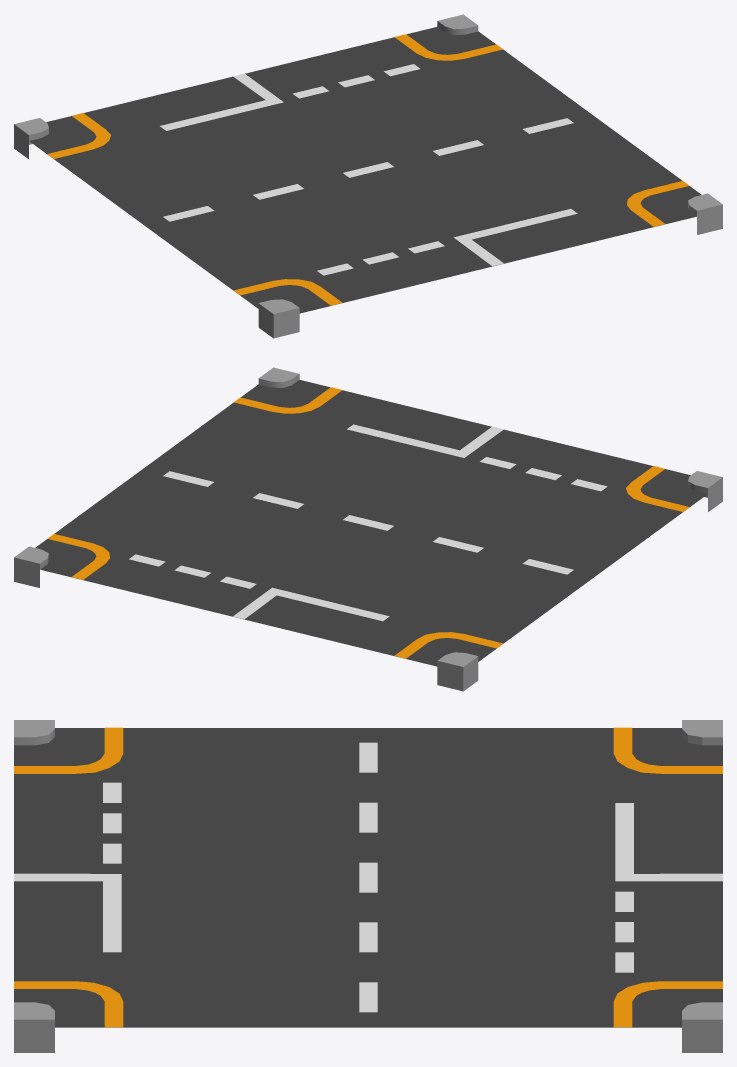
File: Road_A_7.glb
3 renders of one model, top to bottom at view 1: azimuth 30°, elevation 25°; view 2: azimuth 150°, elevation 25°; view 3: azimuth 270°, elevation 25°, orthographic. The views are drawn at different scales.
Visible parts, largest first — view 1: Road_A_7; view 2: Road_A_7; view 3: Road_A_7.
Boxes of the visible parts, left/top/right/bottom form: Road_A_7: left=14, top=14, right=722, bottom=338; Road_A_7: left=14, top=367, right=722, bottom=691; Road_A_7: left=14, top=720, right=722, bottom=1052.
Bounding box in the file's own units: 8 × 0.4148 × 8.
Materials: 1 (1 with a texture image).
